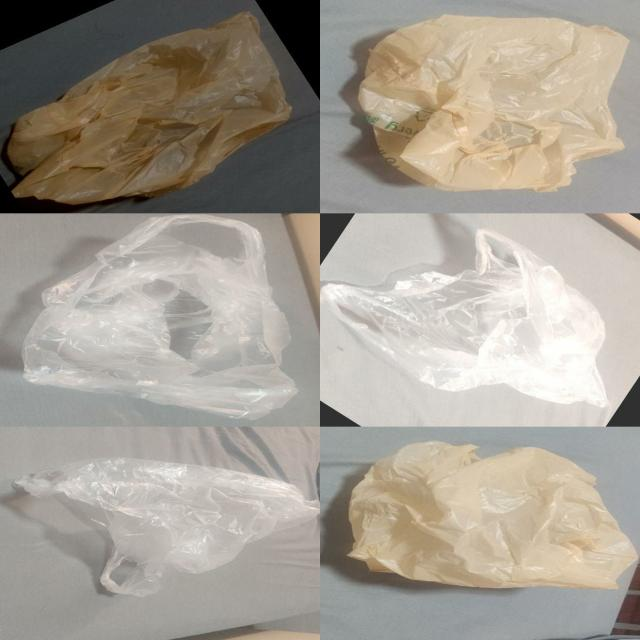Single-layer Plastic: (23, 215, 296, 418), (8, 12, 291, 204), (322, 229, 608, 407), (358, 15, 628, 191), (349, 441, 638, 588), (15, 458, 319, 596)
